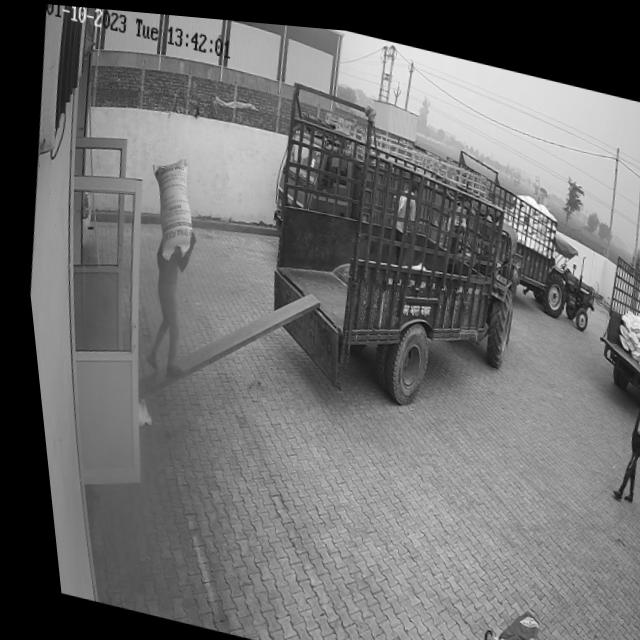sack: (134, 145, 200, 263)
